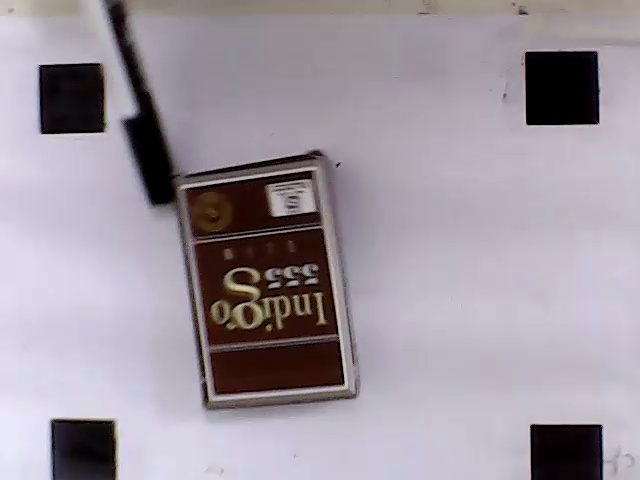BEX: (181, 166, 344, 397)
